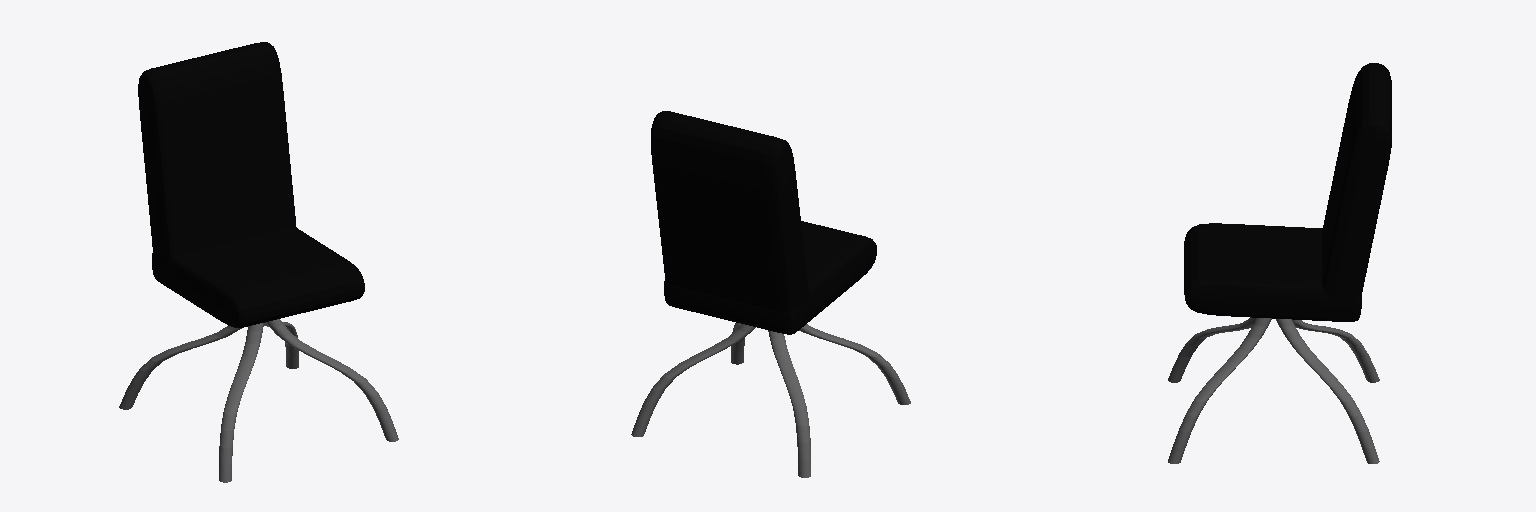
Rendered from stoel.obj.
3 views of the same model, side by side, from view 1: azimuth 30°, elevation 25°; view 2: azimuth 150°, elevation 25°; view 3: azimuth 270°, elevation 25° (orthographic).
Parts seen in each view (by area): view 1: Cube.001_Cube.002, Cube_Cube.001, Cylinder; view 2: Cube.001_Cube.002, Cube_Cube.001, Cylinder; view 3: Cube_Cube.001, Cube.001_Cube.002, Cylinder.
Boxes of the visible parts, x1=… form: Cube.001_Cube.002: x1=138, y1=42, x2=296, y2=266; Cube_Cube.001: x1=152, y1=227, x2=364, y2=327; Cylinder: x1=119, y1=319, x2=398, y2=482; Cube.001_Cube.002: x1=651, y1=111, x2=808, y2=311; Cube_Cube.001: x1=664, y1=221, x2=876, y2=334; Cylinder: x1=631, y1=323, x2=910, y2=477; Cube_Cube.001: x1=1184, y1=223, x2=1361, y2=321; Cube.001_Cube.002: x1=1322, y1=63, x2=1391, y2=304; Cylinder: x1=1168, y1=317, x2=1379, y2=463.
Bounding box in the file's own units: 1.21 × 2.13 × 1.32.